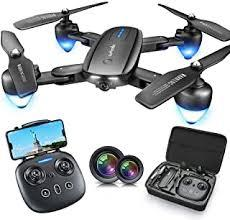drone: (0, 0, 230, 127)
